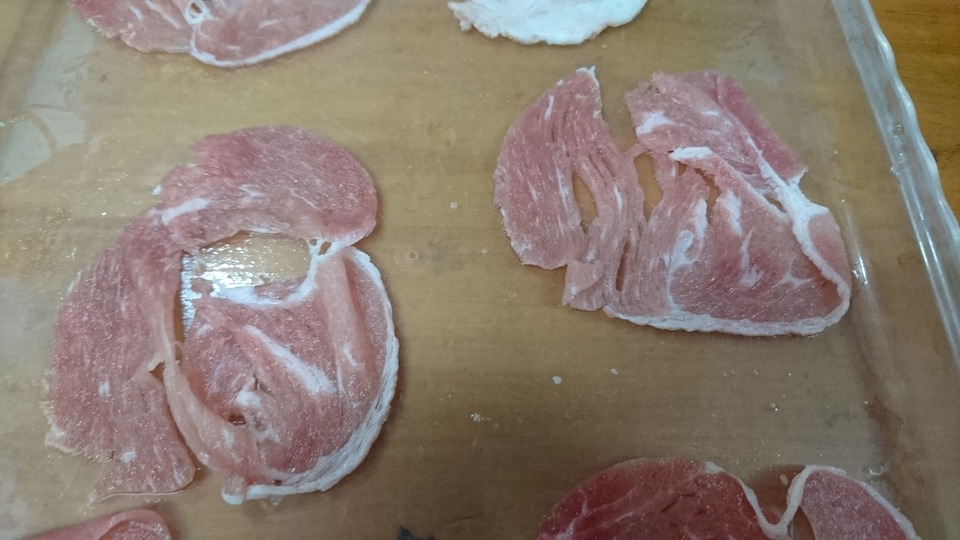restructured meat: (23, 131, 399, 496), (488, 87, 871, 337), (534, 448, 913, 538), (66, 2, 380, 59), (438, 3, 660, 46)
